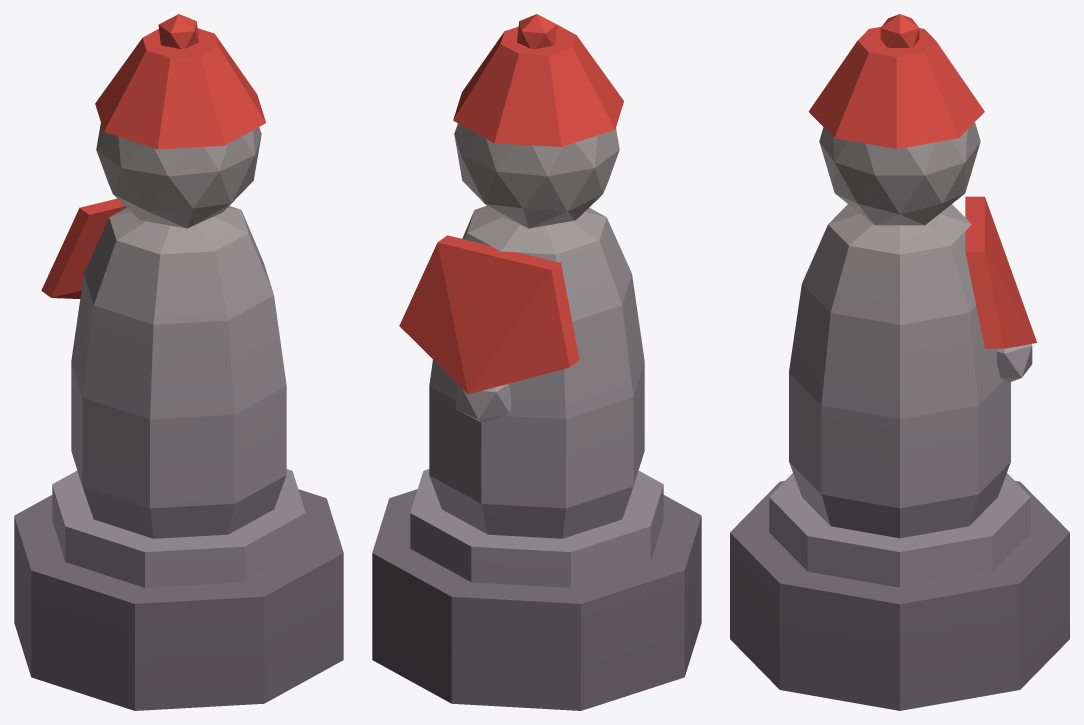
File: jizo.glb
3 renders of one model, left to right at view 1: azimuth 30°, elevation 25°; view 2: azimuth 150°, elevation 25°; view 3: azimuth 270°, elevation 25°, orthographic.
Parts seen in each view (by area): view 1: jizo; view 2: jizo; view 3: jizo.
Boxes of the visible parts, bbox=[...] form: jizo: bbox=[14, 14, 343, 710]; jizo: bbox=[372, 14, 701, 710]; jizo: bbox=[730, 14, 1069, 710].
Bounding box in the file's own units: 0.52 × 1.05 × 0.52.
